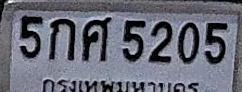0: (178, 21, 198, 63)
2: (149, 20, 172, 62)
5: (19, 14, 42, 59), (204, 22, 228, 64), (123, 20, 146, 62)
A01: (48, 18, 75, 60)
A38: (82, 16, 111, 61)
